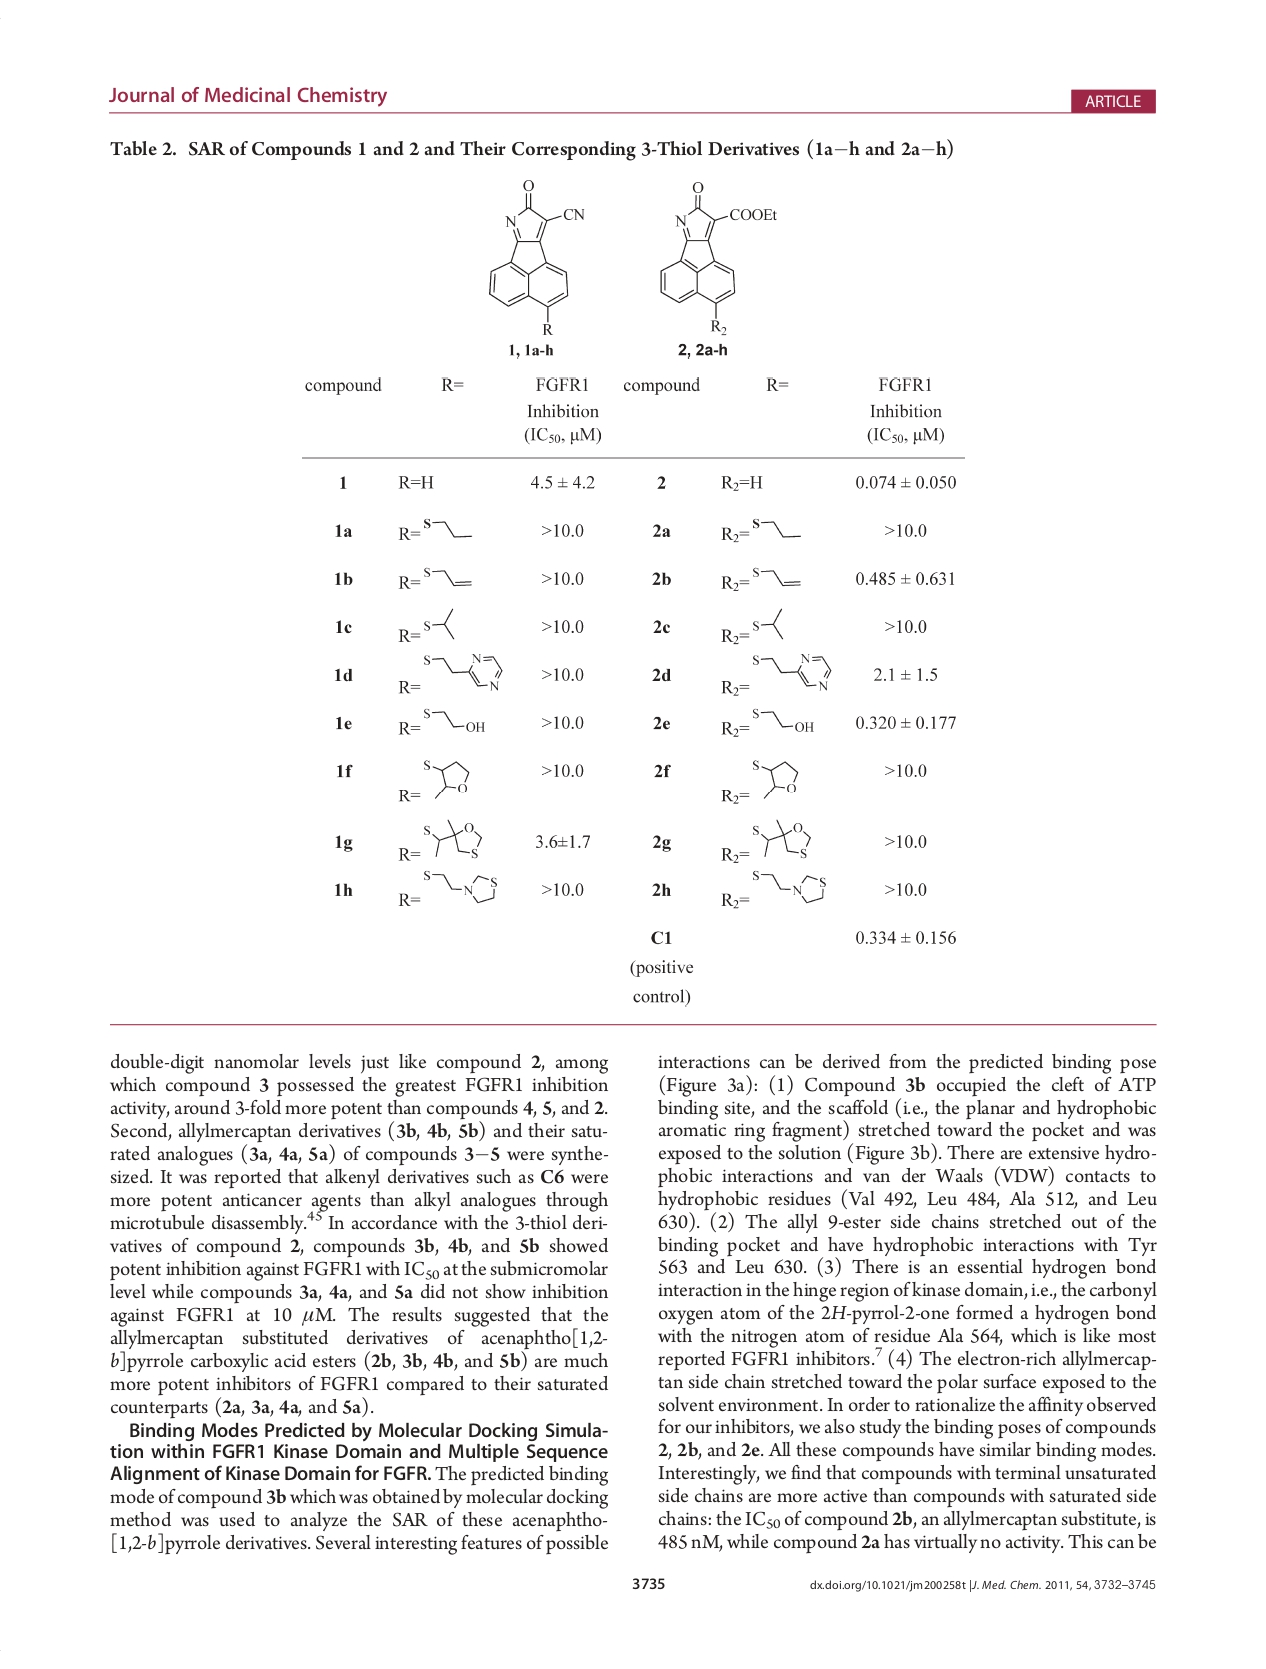exist_molecular: (656, 176, 781, 340), (484, 177, 586, 338), (750, 650, 832, 696), (422, 650, 503, 694), (420, 867, 499, 907), (422, 813, 484, 862), (751, 866, 830, 904), (750, 817, 813, 860), (422, 755, 473, 801), (750, 705, 817, 738), (750, 755, 799, 799), (420, 704, 488, 734), (422, 511, 473, 543), (750, 512, 802, 543), (422, 601, 459, 644), (751, 563, 805, 590), (422, 564, 476, 590), (750, 605, 787, 644)
